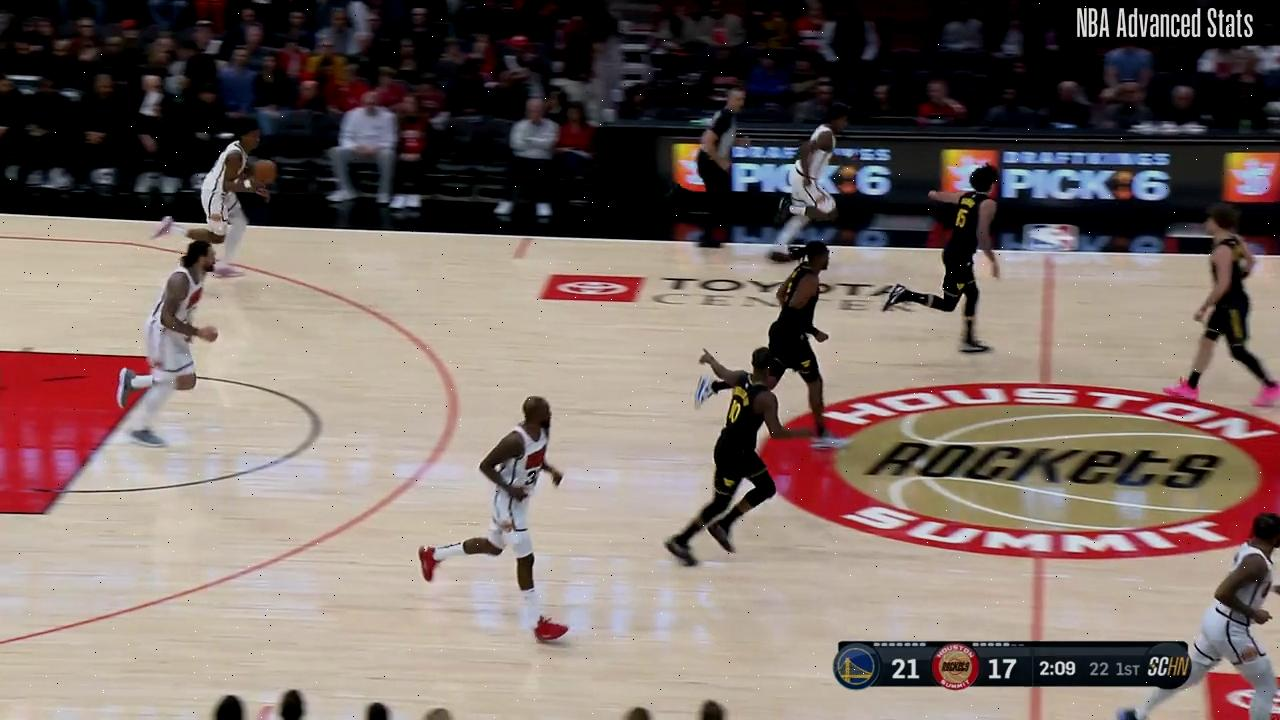basketball: (253, 156, 278, 184)
